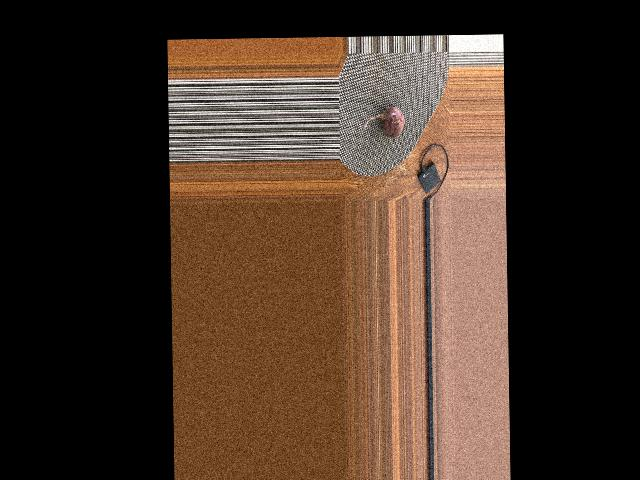beet: (363, 106, 404, 138)
